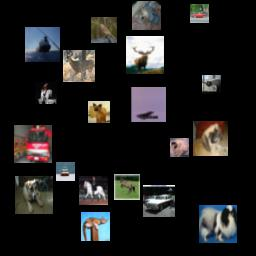airplane: (131, 87, 166, 122)
automobile: (143, 185, 175, 217), (190, 4, 209, 23)
bird: (91, 17, 117, 43)
cat: (81, 212, 110, 241), (202, 75, 221, 94), (170, 138, 189, 157)
deer: (126, 36, 164, 74), (63, 50, 95, 82)
dog: (199, 205, 237, 243), (15, 176, 53, 214), (193, 121, 228, 156), (132, 1, 161, 30), (88, 101, 110, 123)
ship: (25, 27, 60, 62), (56, 162, 75, 181)
truck: (14, 125, 52, 163)
